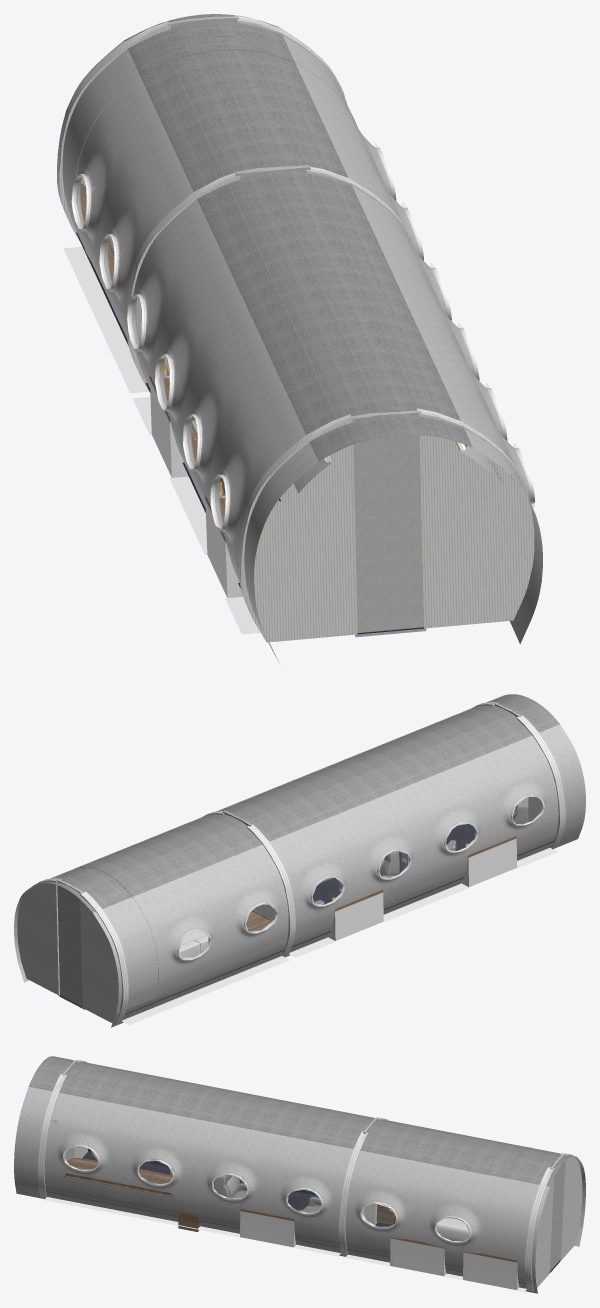
File: jet-cabin.glb
The picture shows the model from 3 angles, top to bottom: view 1: azimuth 30°, elevation 25°; view 2: azimuth 150°, elevation 25°; view 3: azimuth 270°, elevation 25°; orthographic projection. The views are drawn at different scales.
Parts seen in each view (by area): view 1: GeometryNode_1335, GeometryNode_1345, GeometryNode_984, GeometryNode_1009, GeometryNode_85, GeometryNode_1398, GeometryNode_1407, GeometryNode_975, GeometryNode_76; view 2: GeometryNode_1335, GeometryNode_1345, GeometryNode_984, GeometryNode_85, GeometryNode_1407, GeometryNode_960, GeometryNode_1398, GeometryNode_906, GeometryNode_1253, GeometryNode_919, GeometryNode_650; view 3: GeometryNode_1335, GeometryNode_1345, GeometryNode_984, GeometryNode_1181, GeometryNode_1407, GeometryNode_1398, GeometryNode_201, GeometryNode_960, GeometryNode_906, GeometryNode_942, GeometryNode_919, GeometryNode_764 (+4 smaller).
Boxes of the visible parts, left/top/right/bottom form: GeometryNode_1335: left=61, top=27, right=542, bottom=663; GeometryNode_1345: left=124, top=14, right=472, bottom=460; GeometryNode_984: left=57, top=15, right=534, bottom=642; GeometryNode_1009: left=235, top=165, right=426, bottom=637; GeometryNode_85: left=63, top=246, right=260, bottom=634; GeometryNode_1398: left=71, top=147, right=535, bottom=531; GeometryNode_1407: left=74, top=143, right=533, bottom=535; GeometryNode_975: left=167, top=15, right=425, bottom=634; GeometryNode_76: left=63, top=183, right=238, bottom=567; GeometryNode_1335: left=14, top=724, right=585, bottom=1027; GeometryNode_1345: left=38, top=694, right=559, bottom=912; GeometryNode_984: left=17, top=702, right=565, bottom=1024; GeometryNode_85: left=122, top=839, right=557, bottom=1024; GeometryNode_1407: left=175, top=793, right=545, bottom=962; GeometryNode_960: left=56, top=879, right=85, bottom=1009; GeometryNode_1398: left=177, top=795, right=544, bottom=960; GeometryNode_906: left=59, top=824, right=475, bottom=1007; GeometryNode_1253: left=179, top=935, right=208, bottom=957; GeometryNode_919: left=125, top=841, right=554, bottom=1014; GeometryNode_650: left=339, top=849, right=399, bottom=893; GeometryNode_1335: left=14, top=1066, right=585, bottom=1293; GeometryNode_1345: left=28, top=1056, right=573, bottom=1186; GeometryNode_984: left=37, top=1059, right=582, bottom=1291; GeometryNode_1181: left=44, top=1197, right=526, bottom=1292; GeometryNode_1407: left=61, top=1143, right=474, bottom=1243; GeometryNode_1398: left=63, top=1145, right=471, bottom=1242; GeometryNode_201: left=64, top=1158, right=174, bottom=1197; GeometryNode_960: left=549, top=1154, right=564, bottom=1271; GeometryNode_906: left=82, top=1151, right=560, bottom=1272; GeometryNode_942: left=436, top=1216, right=471, bottom=1240; GeometryNode_919: left=46, top=1149, right=525, bottom=1283; GeometryNode_764: left=214, top=1174, right=247, bottom=1197.
Bounding box in the file's own units: 5.51 × 2.4 × 9.64.
18 materials, 10 textured.
